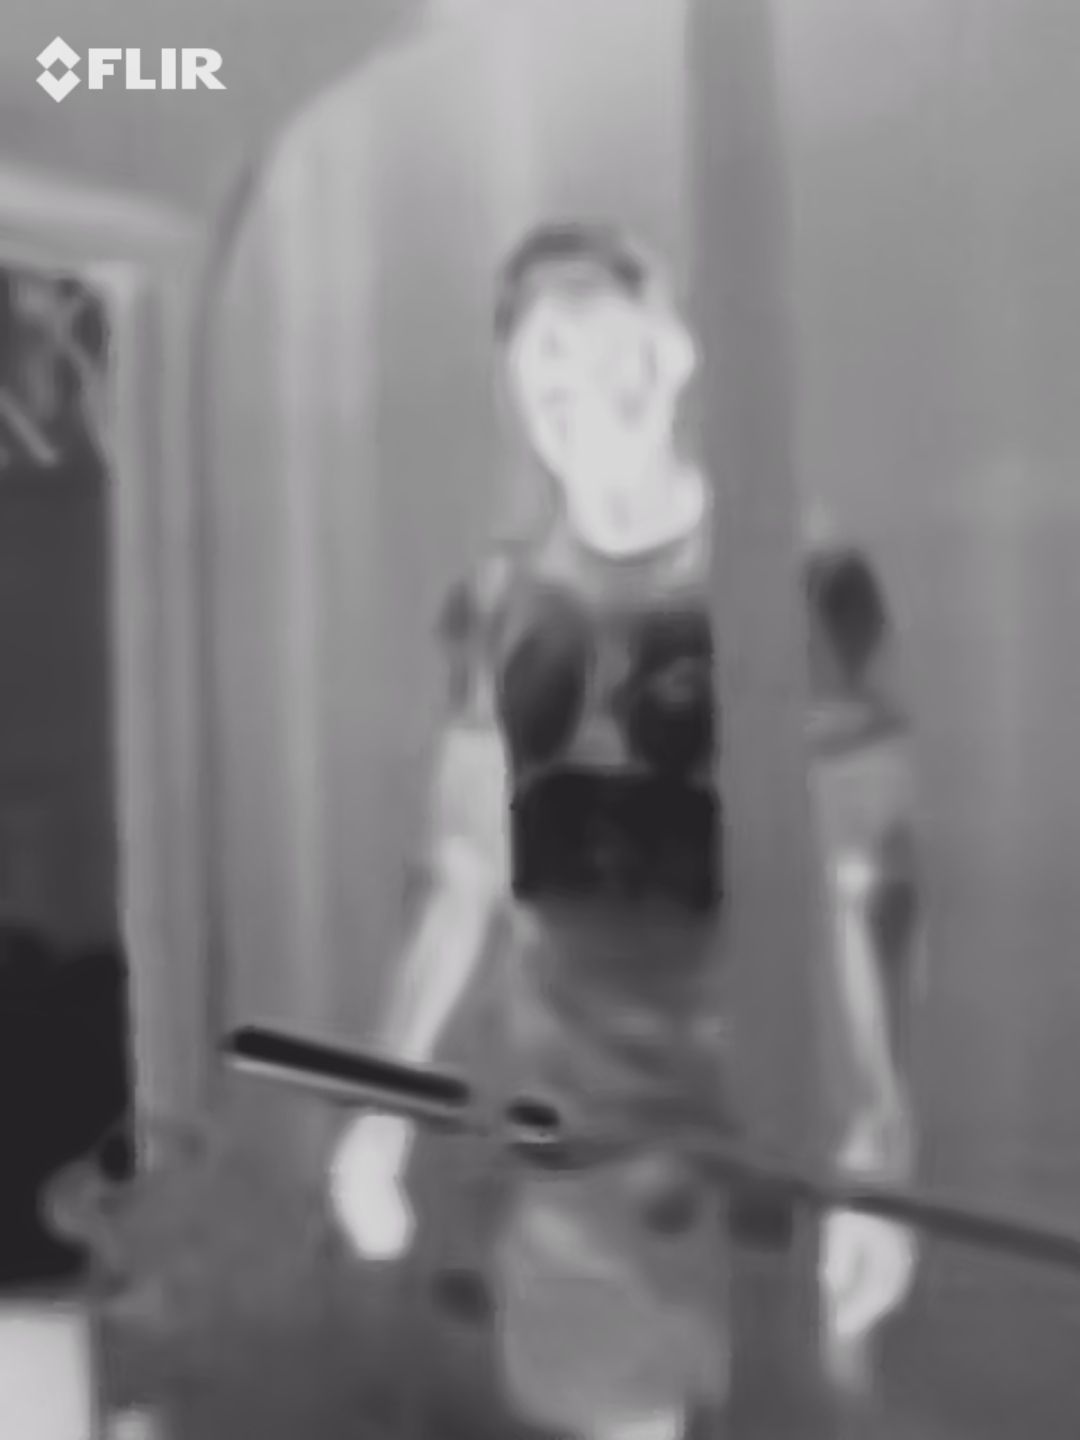head: (498, 221, 704, 495)
